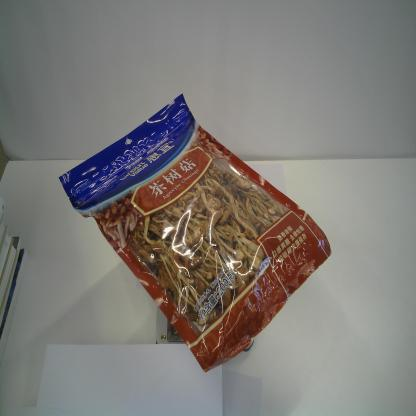Dried Food: (58, 92, 332, 373)
